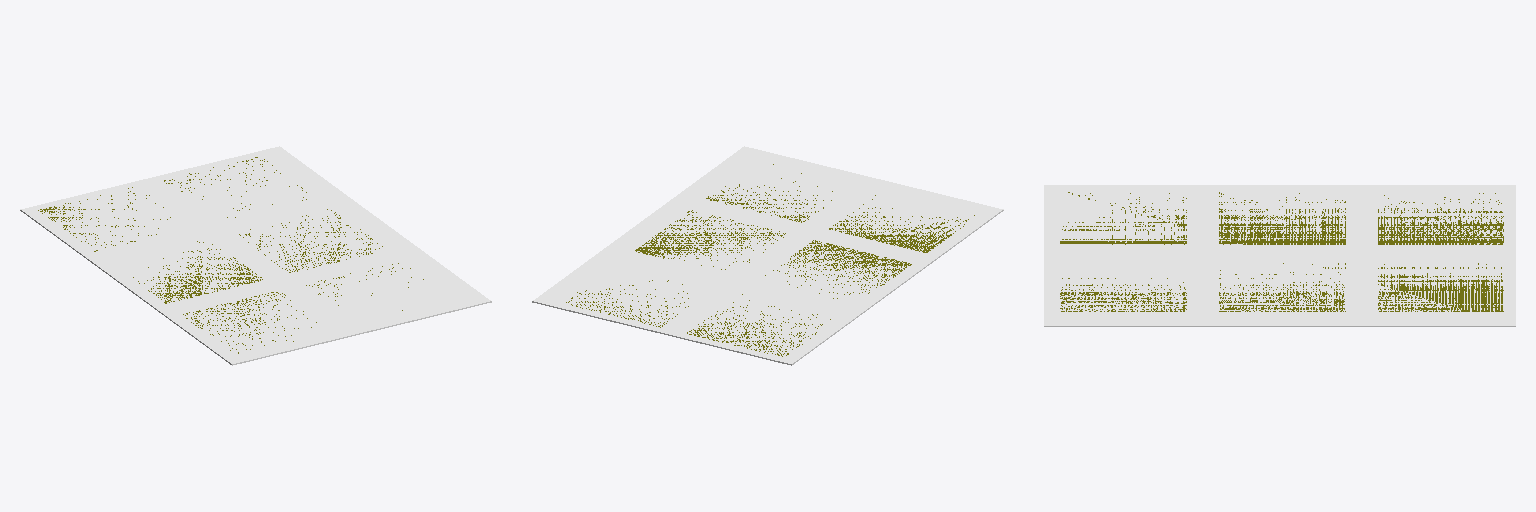
URDF robot description (calibration_1b):
<?xml version="1.0" encoding="utf-8"?>
  
<robot name="calibration_1b">

  <!-- upper left corner of grid  -->
  <link name="calibration_1b_base_link">
    <visual>  
     <origin xyz ="0.105 0.1485 0" rpy ="0 0 0"/>
     <geometry>
       <box size="0.21 0.297 1e-3" />
     </geometry>
     <material name="TransparentWhite">
       <color rgba="1 1 1 0.2"/>
     </material>
   </visual>
  </link>

  <!-- aruco 907 -->
  <link name="aruco_907">
    <visual>  
     <geometry>
       <box size="0.08 0.08 0.001" />
     </geometry>
     <material name="Yellow">
       <color rgba="0.5 0.5 0.1 0.8"/>
     </material>
   </visual>
  </link>

  <!-- aruco 908   -->
  <link name="aruco_908">
    <visual>  
     <geometry>
       <box size="0.08 0.08 0.001" />
     </geometry>
     <material name="Yellow">
       <color rgba="0.5 0.5 0.1 0.8"/>
     </material>
   </visual>
  </link>

  <!-- aruco 909   -->
  <link name="aruco_909">
    <visual>  
     <geometry>
       <box size="0.08 0.08 0.001" />
     </geometry>
     <material name="Yellow">
       <color rgba="0.5 0.5 0.1 0.8"/>
     </material>
   </visual>
  </link>

  <!-- aruco 910   -->
  <link name="aruco_910">
    <visual>  
     <geometry>
       <box size="0.08 0.08 0.001" />
     </geometry>
     <material name="Yellow">
       <color rgba="0.5 0.5 0.1 0.8"/>
     </material>
   </visual>
  </link>

  <!-- aruco 911   -->
  <link name="aruco_911">
    <visual>  
     <geometry>
       <box size="0.08 0.08 0.001" />
     </geometry>
     <material name="Yellow">
       <color rgba="0.5 0.5 0.1 0.8"/>
     </material>
   </visual>
  </link>

  <!-- aruco 912   -->
  <link name="aruco_912">
    <visual>  
     <geometry>
       <box size="0.08 0.08 0.001" />
     </geometry>
     <material name="Yellow">
       <color rgba="0.5 0.5 0.1 0.8"/>
     </material>
   </visual>
  </link>

  <!-- position aruco markers -->
  <joint name="base_link-aruco_907" type="fixed">
    <origin rpy="0 0 0" xyz="0.05 0.05 0"/>
    <parent link="calibration_1b_base_link"/>
    <child link="aruco_907"/>
  </joint>

  <joint name="base_link-aruco_908" type="fixed">
    <origin rpy="0 0 0" xyz="0.15 0.05 0"/>
    <parent link="calibration_1b_base_link"/>
    <child link="aruco_908"/>
  </joint>

  <joint name="base_link-aruco_909" type="fixed">
    <origin rpy="0 0 0" xyz="0.05 0.15 0"/>
    <parent link="calibration_1b_base_link"/>
    <child link="aruco_909"/>
  </joint>

  <joint name="base_link-aruco_910" type="fixed">
    <origin rpy="0 0 0" xyz="0.15 0.15 0"/>
    <parent link="calibration_1b_base_link"/>
    <child link="aruco_910"/>
  </joint>

  <joint name="base_link-aruco_911" type="fixed">
    <origin rpy="0 0 0" xyz="0.05 0.25 0"/>
    <parent link="calibration_1b_base_link"/>
    <child link="aruco_911"/>
  </joint>

  <joint name="base_link-aruco_912" type="fixed">
    <origin rpy="0 0 0" xyz="0.15 0.25 0"/>
    <parent link="calibration_1b_base_link"/>
    <child link="aruco_912"/>
  </joint>

</robot>

--- Facts derived from the render (not from the file) ---
3 views of the same robot in one strip: view 1: azimuth 30°, elevation 25°; view 2: azimuth 150°, elevation 25°; view 3: azimuth 270°, elevation 25° (orthographic).
Model calibration_1b with 7 links and 6 joints (6 fixed), rooted at calibration_1b_base_link, posed every joint at zero.
Visible links, largest first — view 1: calibration_1b_base_link, aruco_909, aruco_910; view 2: calibration_1b_base_link, aruco_910, aruco_909, aruco_907, aruco_911; view 3: calibration_1b_base_link, aruco_912, aruco_909, aruco_911, aruco_910, aruco_908, aruco_907.
Link boxes in pixels (x1,y1,x2,y2): calibration_1b_base_link: (20, 146, 491, 365); aruco_909: (133, 241, 262, 303); aruco_910: (239, 209, 382, 272); calibration_1b_base_link: (532, 146, 1003, 365); aruco_910: (635, 210, 785, 269); aruco_909: (765, 240, 911, 298); aruco_907: (829, 195, 974, 252); aruco_911: (687, 294, 830, 356); calibration_1b_base_link: (1044, 185, 1515, 326); aruco_912: (1378, 263, 1503, 311); aruco_909: (1219, 192, 1345, 244); aruco_911: (1378, 193, 1503, 244); aruco_910: (1219, 263, 1345, 311); aruco_908: (1060, 278, 1186, 311); aruco_907: (1060, 192, 1186, 244).
Bounding box of the posed robot: 0.21 × 0.297 × 0.001 m (x, y, z).
Geometry: primitives only (box / cylinder / sphere), no mesh files.
